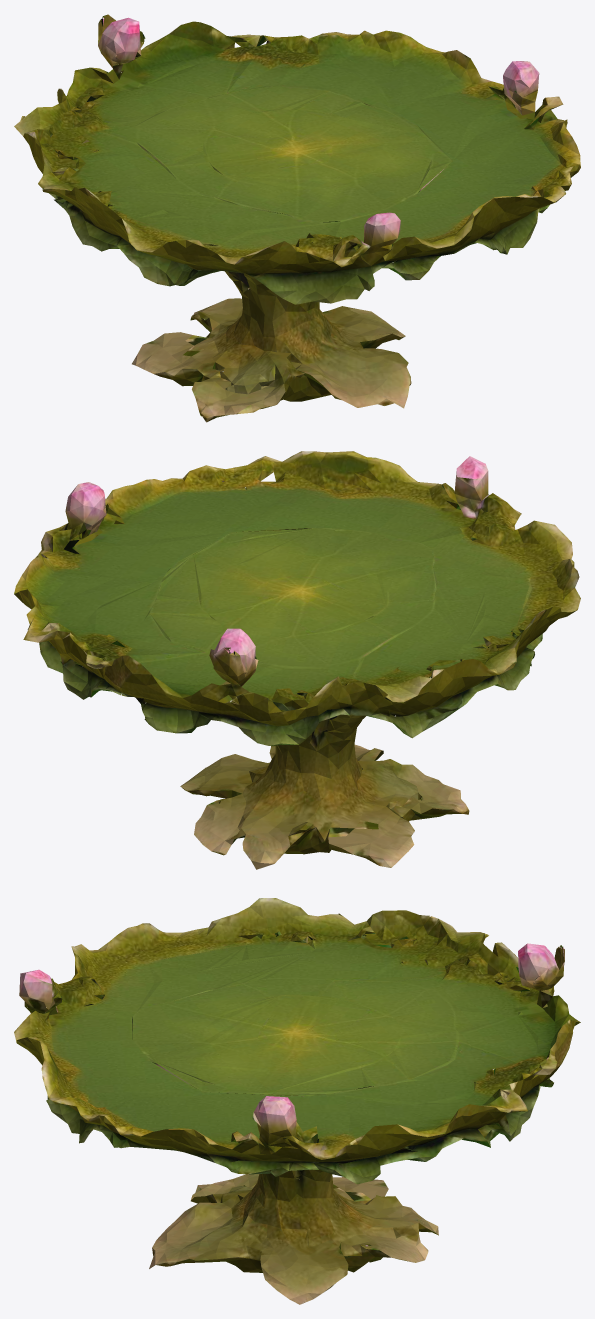
File: fairy_lily_platform_1117.glb
3 renders of one model, top to bottom at view 1: azimuth 30°, elevation 25°; view 2: azimuth 150°, elevation 25°; view 3: azimuth 270°, elevation 25°, orthographic. The views are drawn at different scales.
Visible parts, largest first — view 1: world; view 2: world; view 3: world.
Part boxes in pixels (bbox=[...]): world: bbox=[14, 14, 580, 422]; world: bbox=[14, 451, 580, 869]; world: bbox=[14, 898, 580, 1304].
Bounding box in the file's own units: 1.75 × 1 × 1.78.
1 material, 1 textured.
